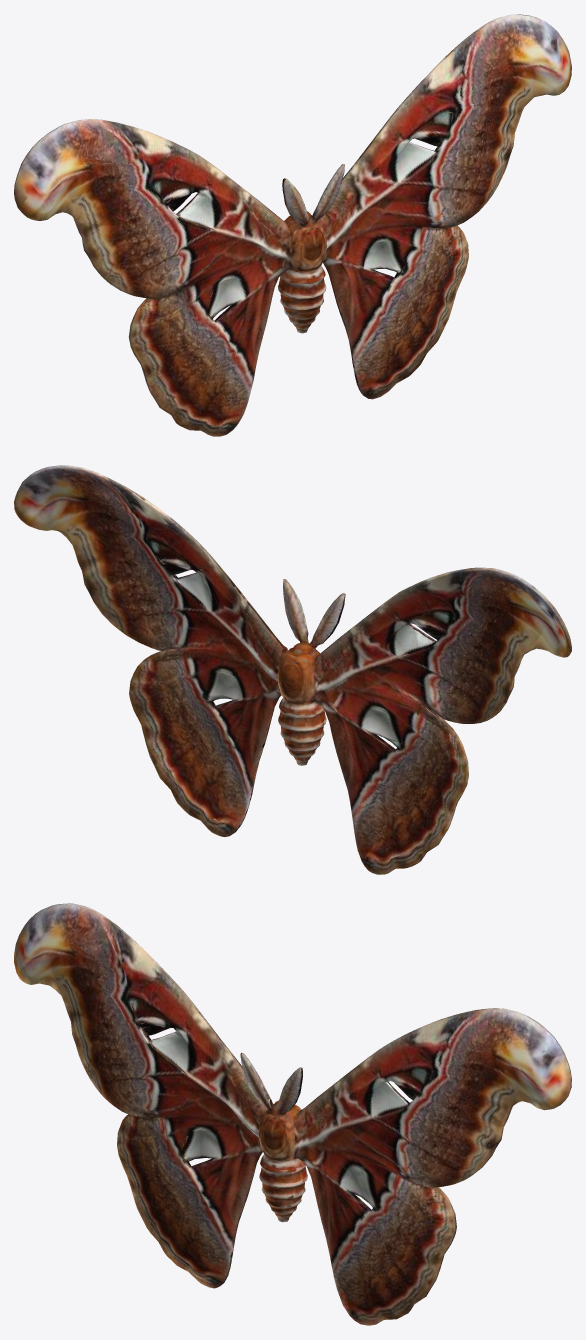
File: atlas.glb
3 views of the same model, one above another, from view 1: azimuth 30°, elevation 25°; view 2: azimuth 150°, elevation 25°; view 3: azimuth 330°, elevation 25° (orthographic).
Parts seen in each view (by area): view 1: atlas; view 2: atlas; view 3: atlas.
Boxes of the visible parts, left/top/right/bottom form: atlas: left=14, top=14, right=571, bottom=436; atlas: left=14, top=465, right=571, bottom=874; atlas: left=14, top=903, right=571, bottom=1325.
Bounding box in the file's own units: 1 × 0.5886 × 0.0841.
1 material, 1 textured.
